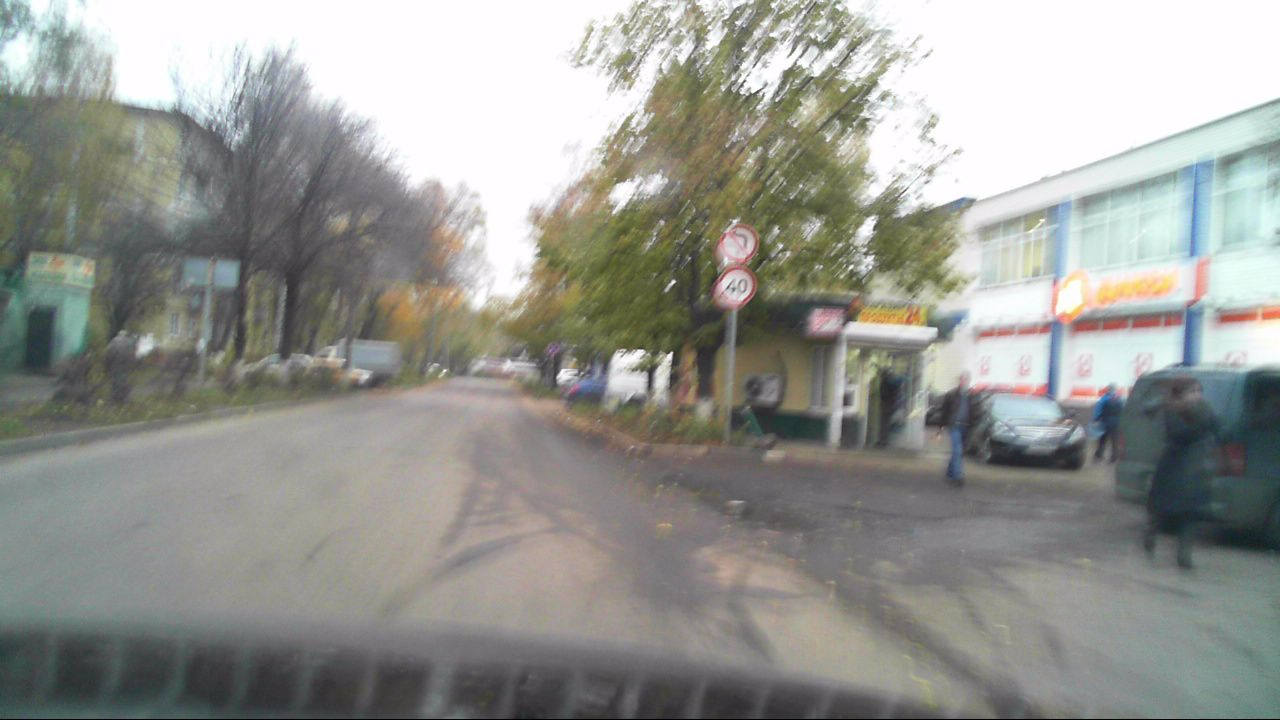speed_warning_40: (718, 266, 757, 303)
